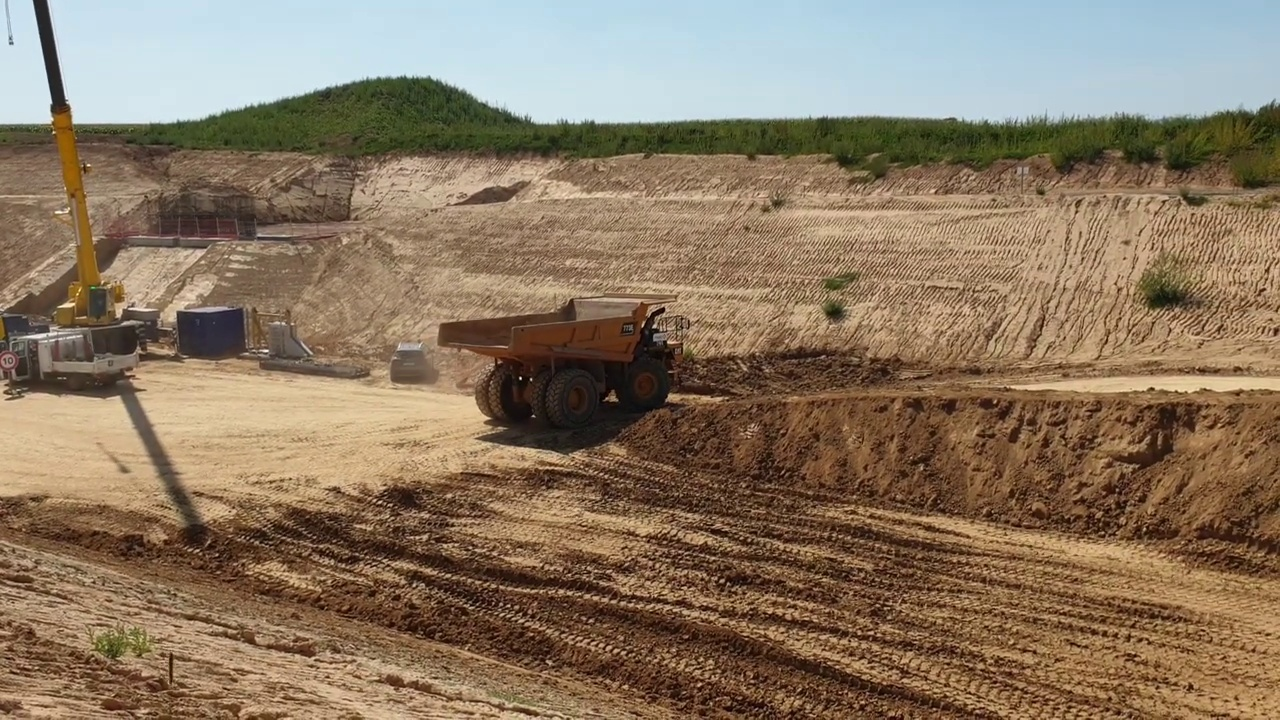crane: (1, 3, 146, 399)
truck: (435, 283, 695, 434)
